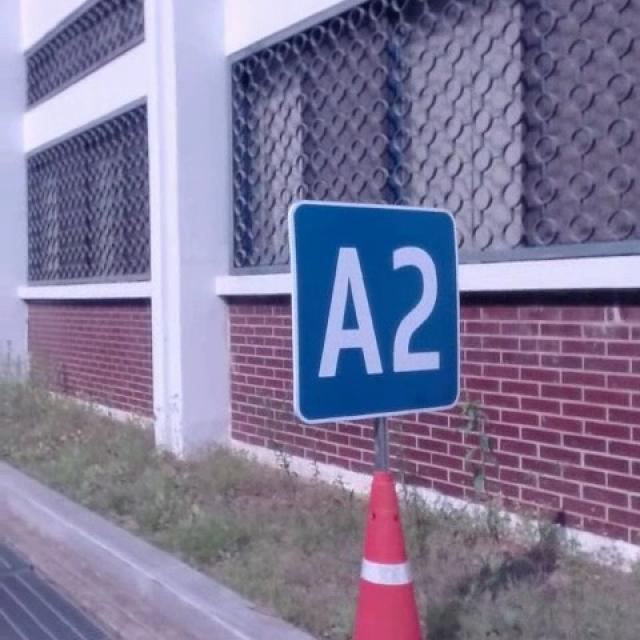a2: (283, 196, 467, 431)
